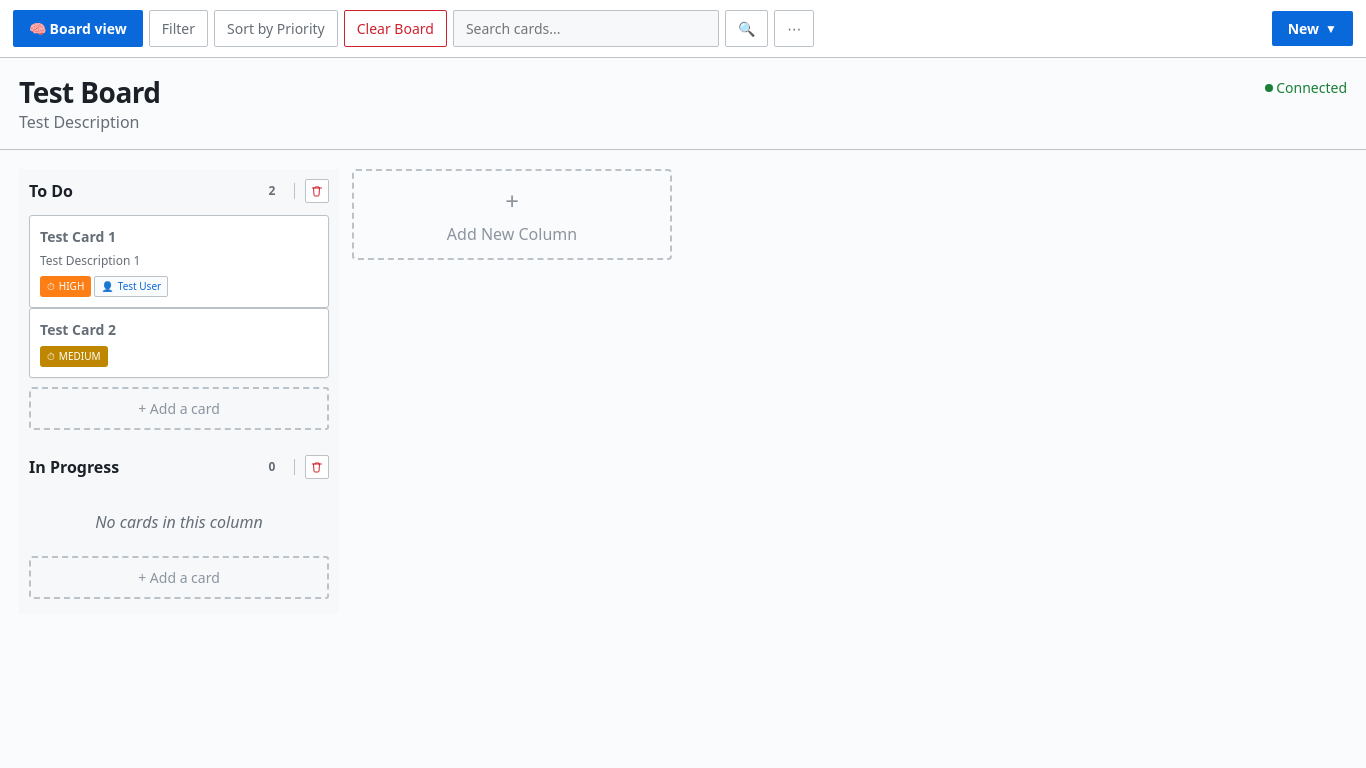
Test: Board Component › Filtering and Sorting Integration › should clear filters properly
Expected: the heading "Test Board" is shown, x1=19 y1=77 x2=160 y2=108
Apply search filter
Type "Test Card 1" into the field with placeholder "Search cards...".
click(586, 28); type("Test Card 1")  # box x1=453 y1=10 x2=719 y2=47
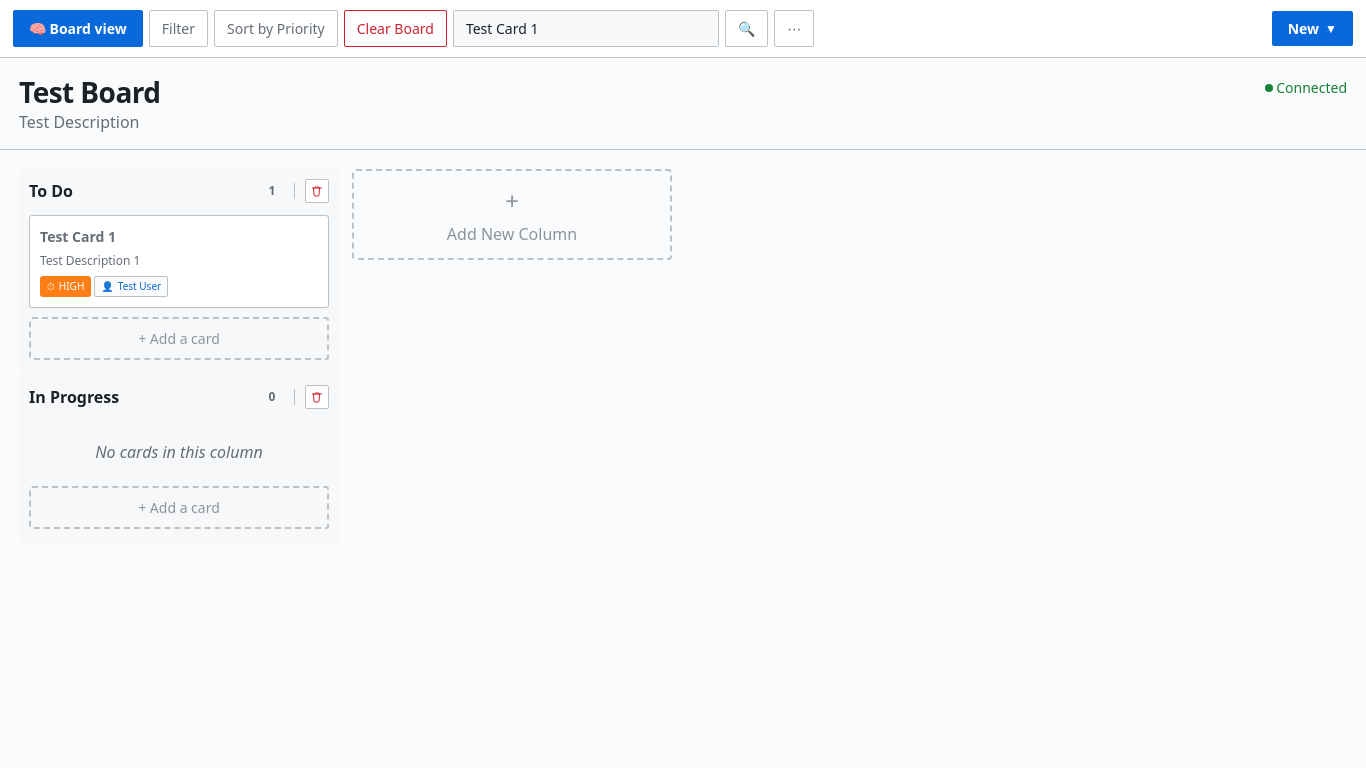
Expected: the heading "Test Card 2" is gone
Clear search
Clear the field with placeholder "Search cards..." at (586, 28), box x1=453 y1=10 x2=719 y2=47
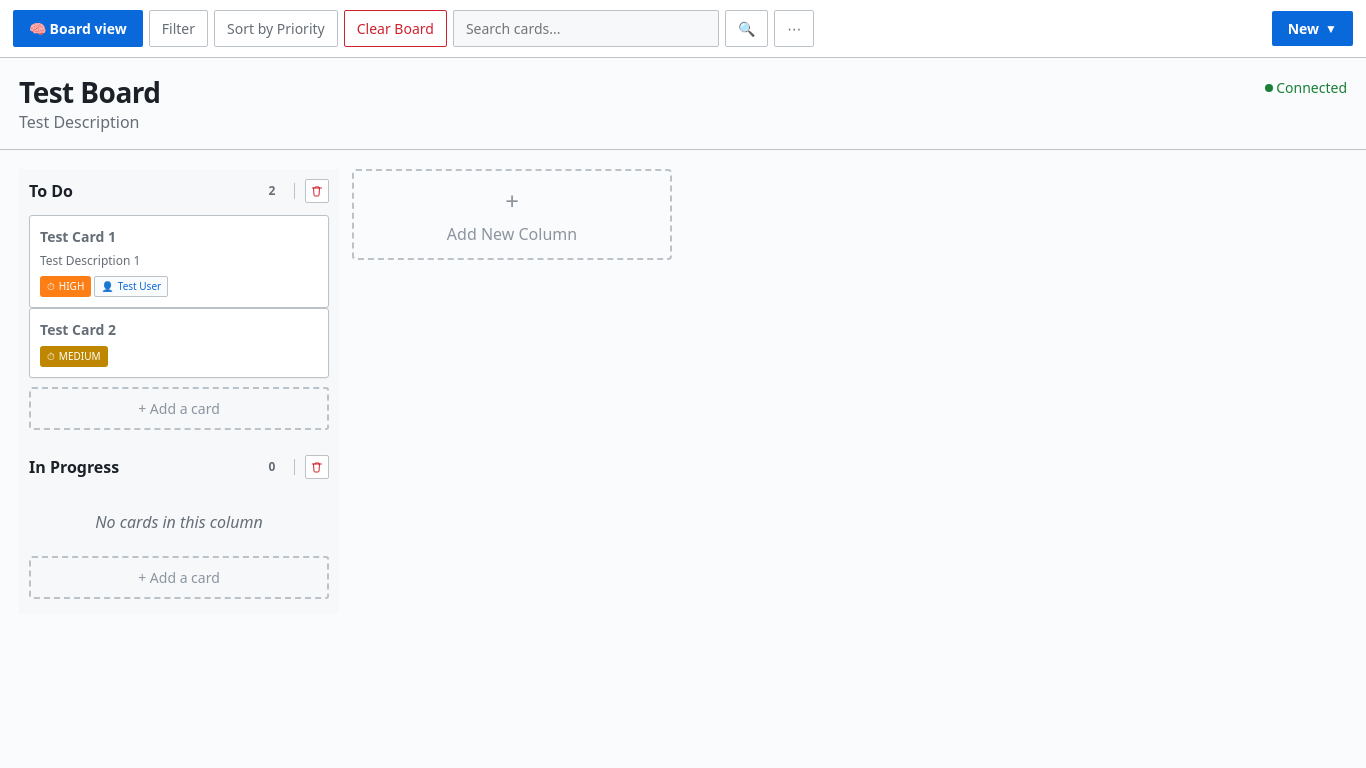
Expected: the heading "Test Card 1" is shown, x1=40 y1=227 x2=116 y2=246
Expected: the heading "Test Card 2" is shown, x1=40 y1=320 x2=116 y2=339
